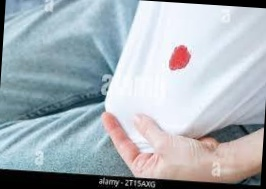blood: (167, 42, 191, 73)
